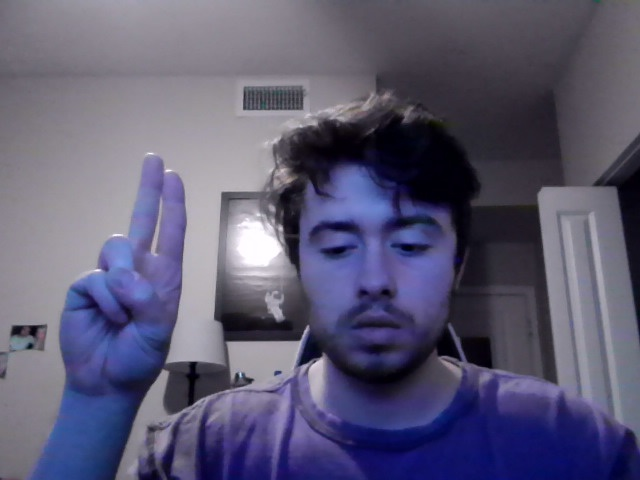u: (57, 151, 187, 432)
